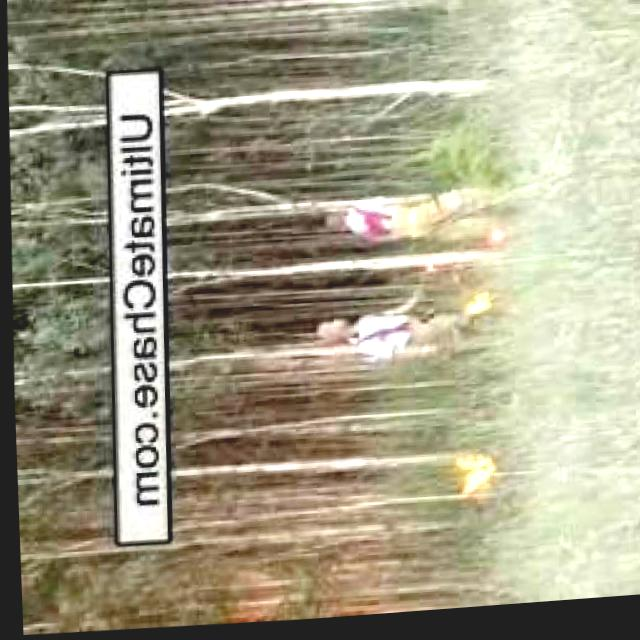Fire: (450, 452, 498, 507)
